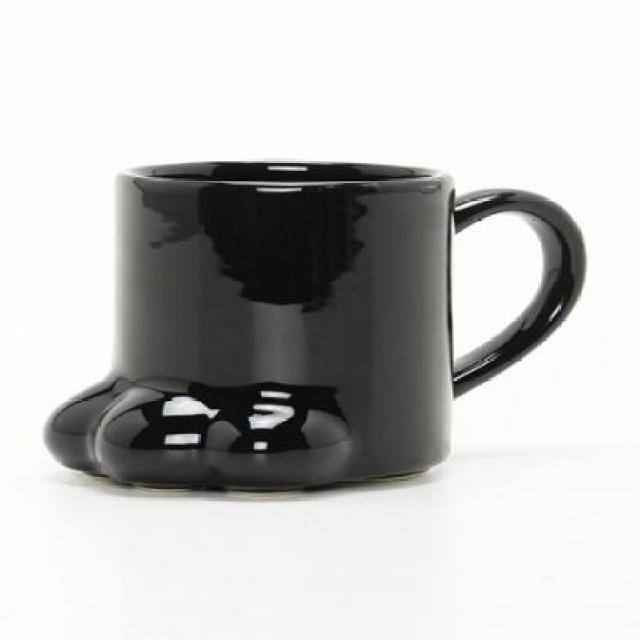taza: (40, 157, 589, 493)
